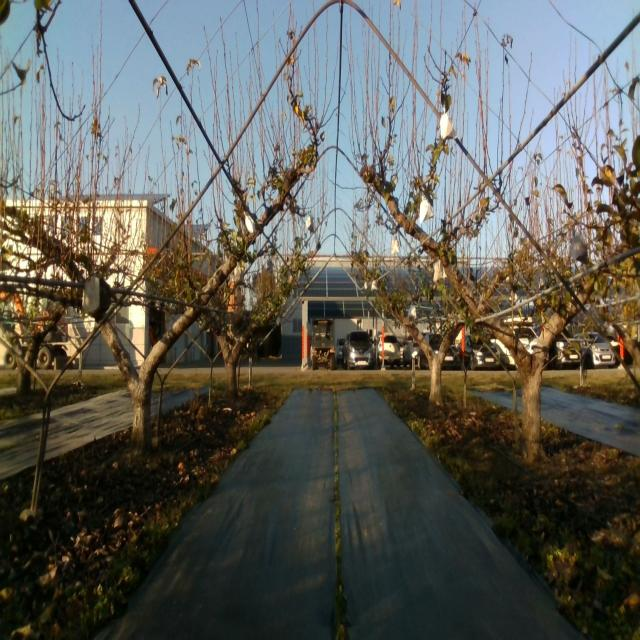pearbags: (572, 226, 589, 266), (440, 109, 457, 140), (419, 196, 434, 224), (433, 258, 447, 284)
